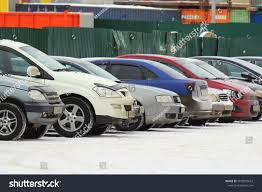car: (1, 38, 136, 134), (49, 56, 186, 137), (118, 55, 261, 119), (92, 60, 213, 121), (1, 75, 66, 140), (210, 57, 262, 86), (204, 88, 234, 119)
